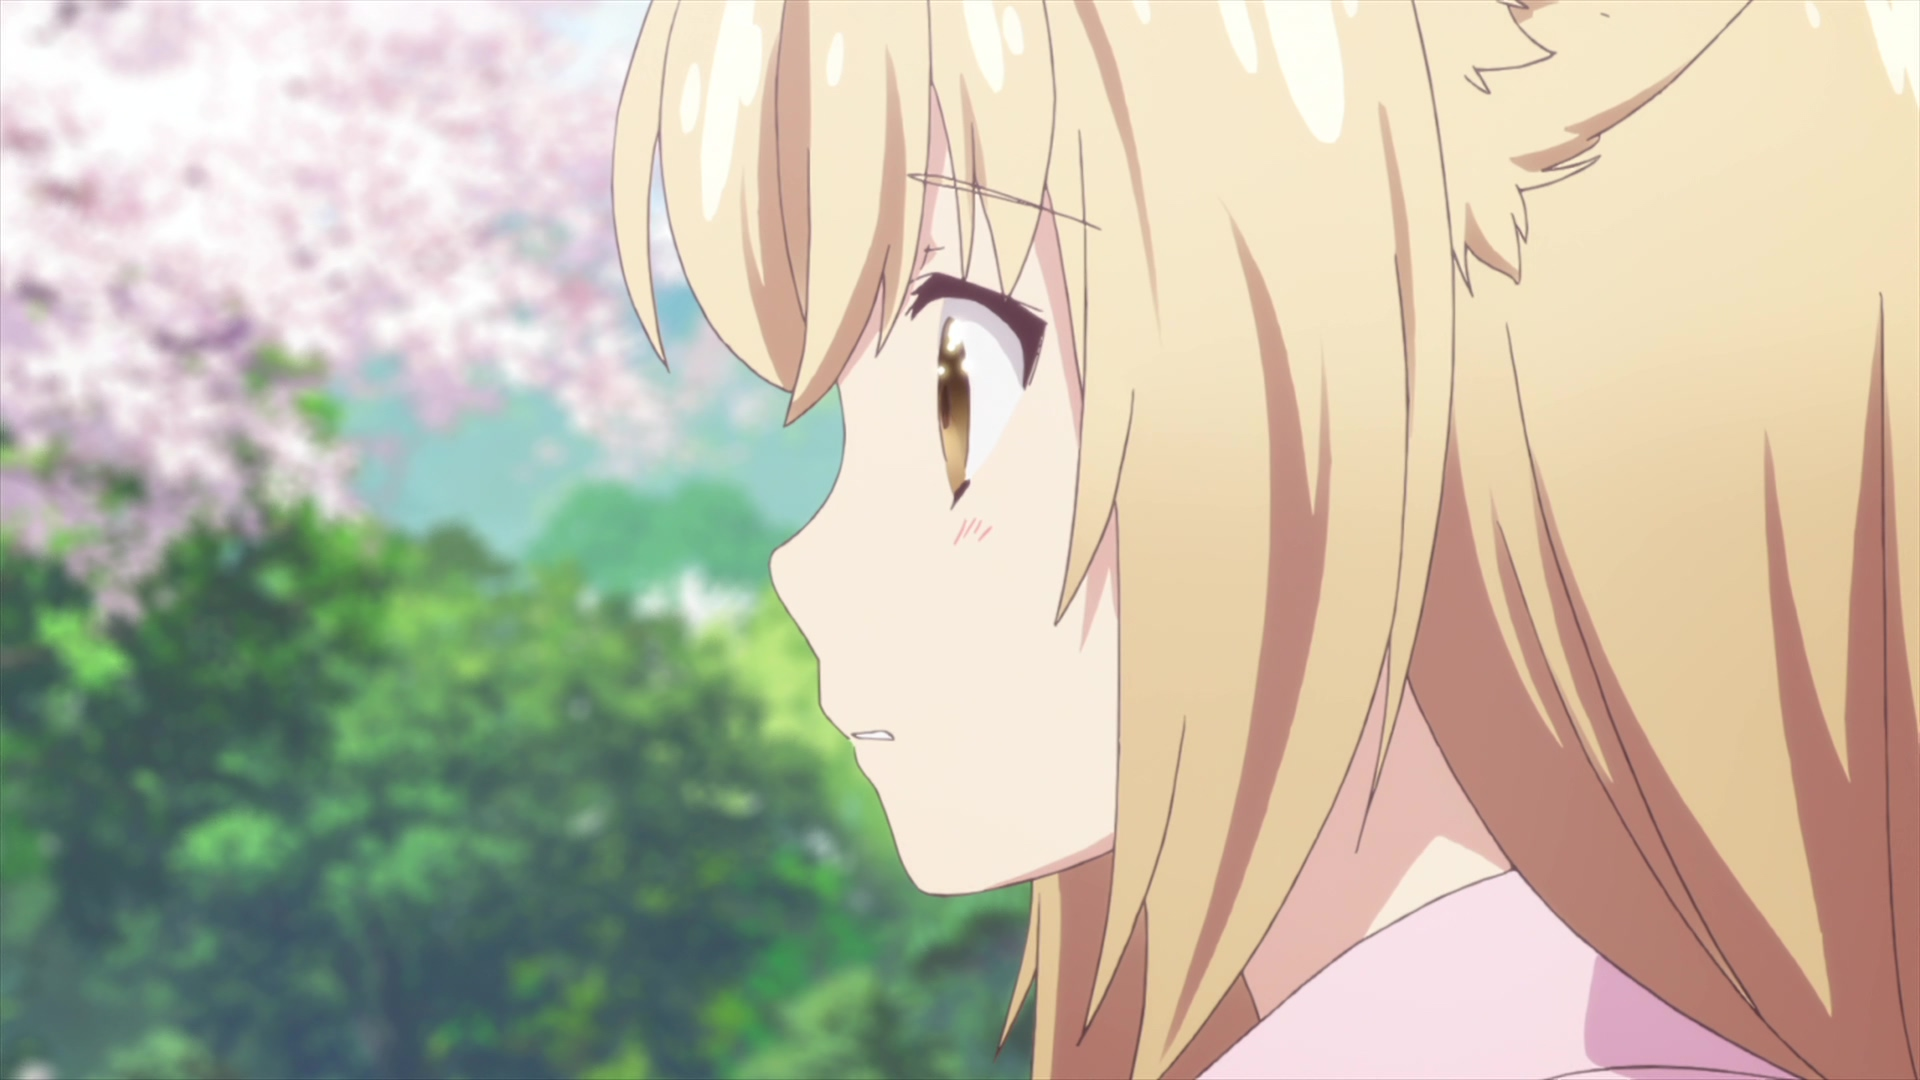柚: (611, 1, 1920, 1080)
